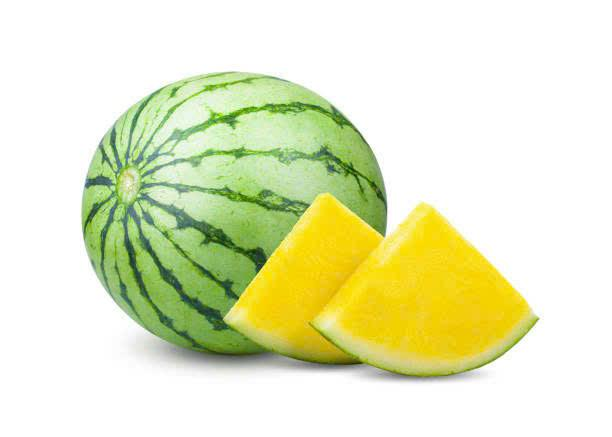watermelon: (75, 71, 379, 243), (278, 191, 540, 386)
